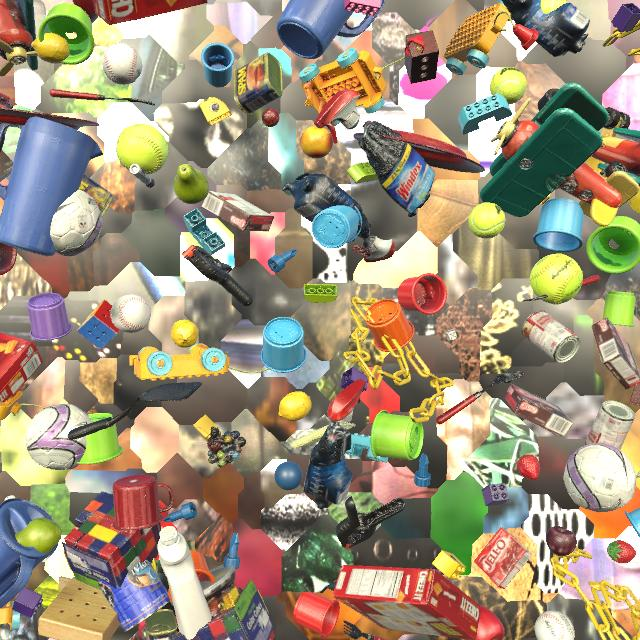ycb_002_master_chef_can: (97, 559, 170, 632)
ycb_003_cracker_box: (333, 565, 481, 640), (0, 333, 43, 403), (93, 0, 208, 25)
ycb_005_tomato_soup_can: (521, 310, 581, 363), (585, 401, 635, 450)
ycb_008_pudding_box: (504, 384, 574, 437), (592, 317, 640, 390), (201, 191, 274, 231), (0, 151, 13, 182)
ycb_009_gelatin_box: (474, 527, 532, 589)
ycb_010_potted_meat_can: (233, 52, 283, 116), (79, 174, 113, 218), (145, 609, 178, 640)
ycb_012_strawberry: (607, 540, 637, 564), (517, 454, 540, 480)
ycb_013_apple: (465, 605, 505, 640)
ycb_014_lemon: (31, 33, 70, 64), (278, 391, 312, 421), (171, 320, 199, 348)
ycb_015_peach: (300, 126, 333, 159)
ycb_016_pear: (15, 518, 62, 553), (173, 164, 209, 204)
ycb_018_plum: (545, 526, 577, 556)
